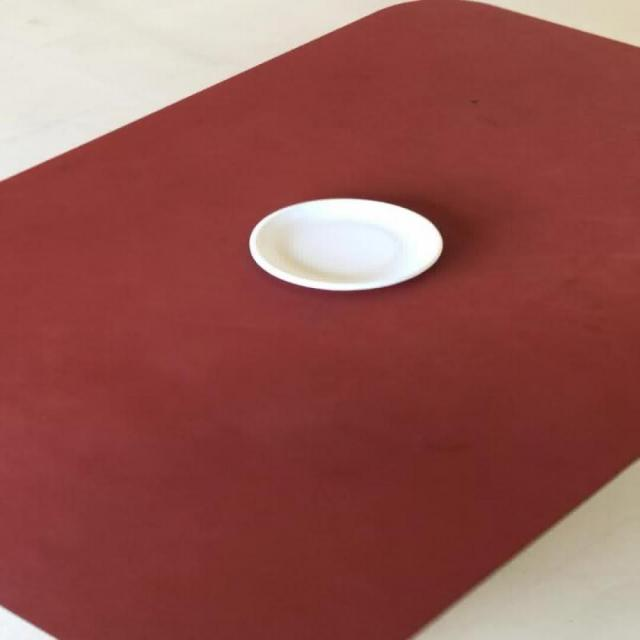Plate: (247, 196, 443, 292)
